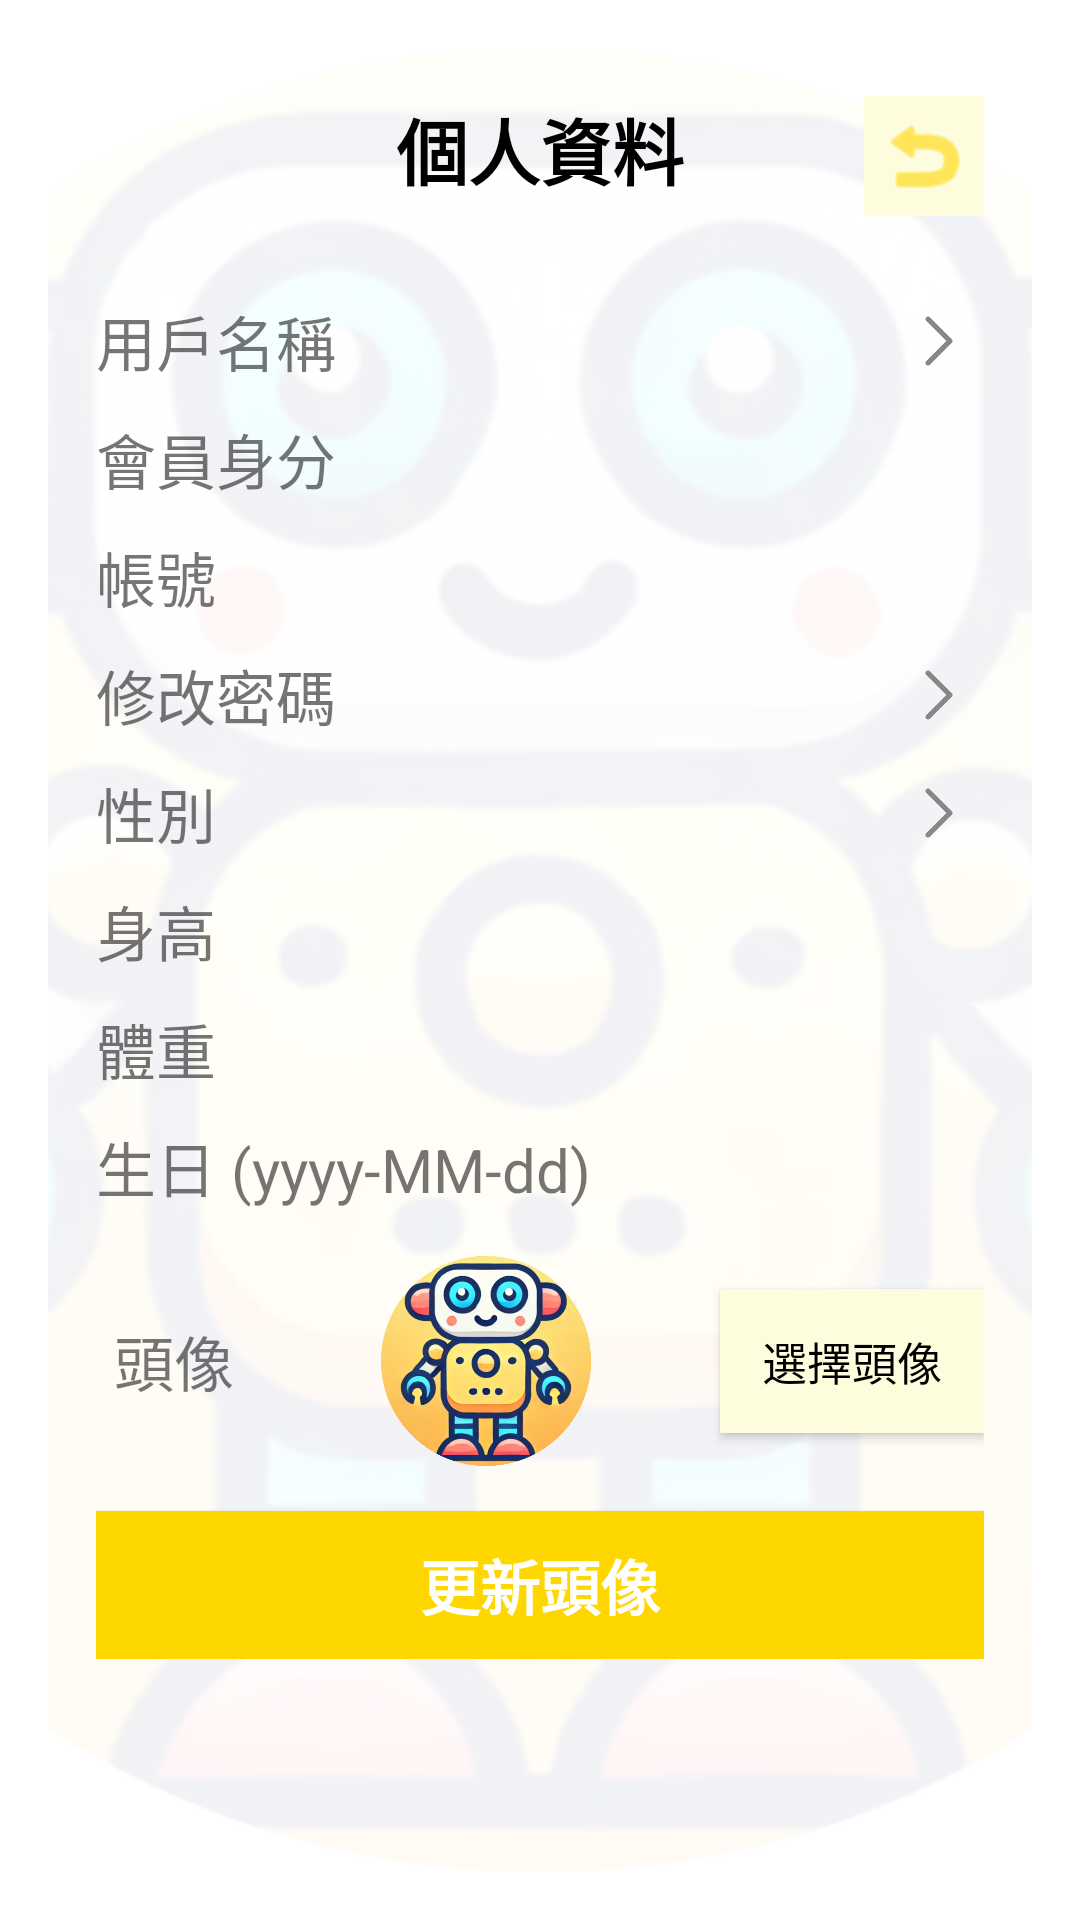

Where to tap for icons on this 1080×1920 app screen, as (x=x, y=y):
arrow right: (x=939, y=341), (x=939, y=695), (x=939, y=813)
chatbot: (x=486, y=1361)
revert: (x=924, y=156)
